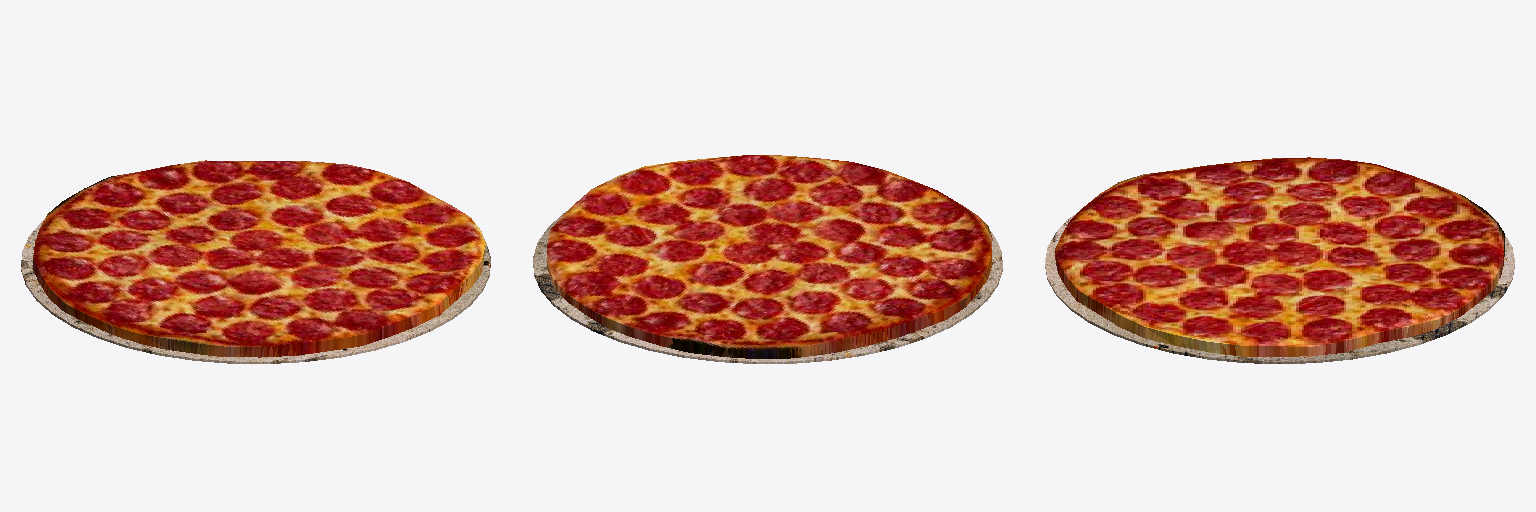
3 views of the same model, side by side, from view 1: azimuth 30°, elevation 25°; view 2: azimuth 150°, elevation 25°; view 3: azimuth 270°, elevation 25° (orthographic).
Visible parts, largest first — view 1: pizza, Pizza_Cardboard; view 2: pizza, Pizza_Cardboard; view 3: pizza, Pizza_Cardboard.
Boxes of the visible parts, x1=… form: pizza: x1=32, y1=160, x2=485, y2=357; Pizza_Cardboard: x1=21, y1=219, x2=490, y2=363; pizza: x1=547, y1=155, x2=992, y2=358; Pizza_Cardboard: x1=533, y1=211, x2=1002, y2=363; pizza: x1=1055, y1=157, x2=1504, y2=356; Pizza_Cardboard: x1=1045, y1=212, x2=1514, y2=363.
Size of the model in its own units: 1.08 by 0.0491 by 1.08.
Materials: 2 (2 with a texture image).